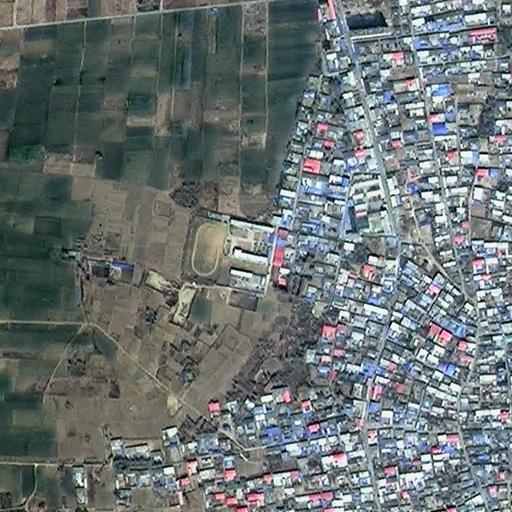school: (178, 210, 275, 297)
